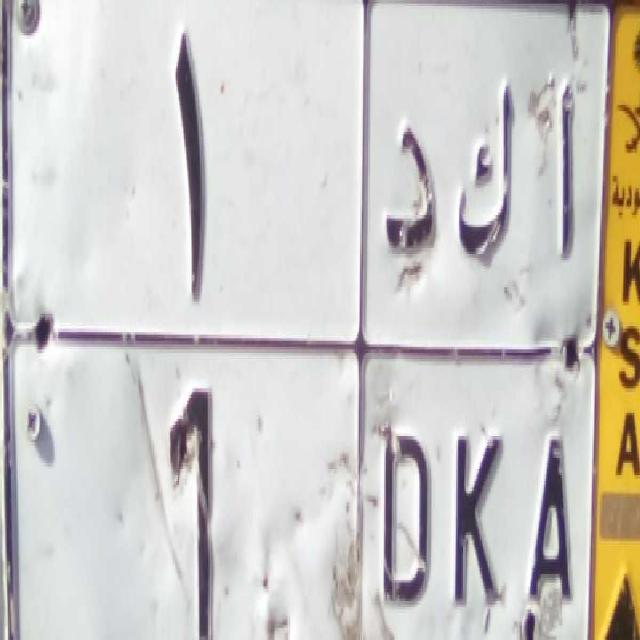license_plate: (0, 321, 594, 640)
